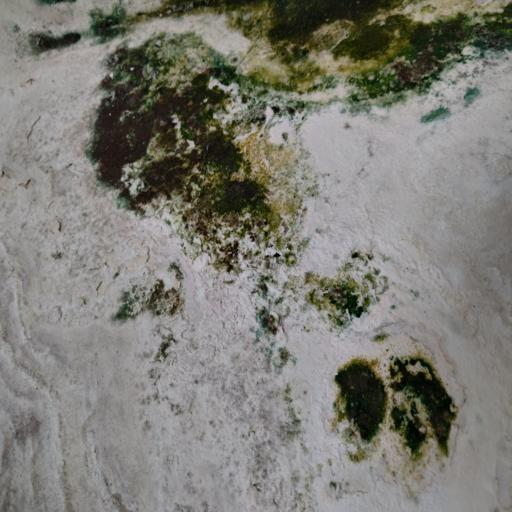algae: (65, 6, 512, 442)
